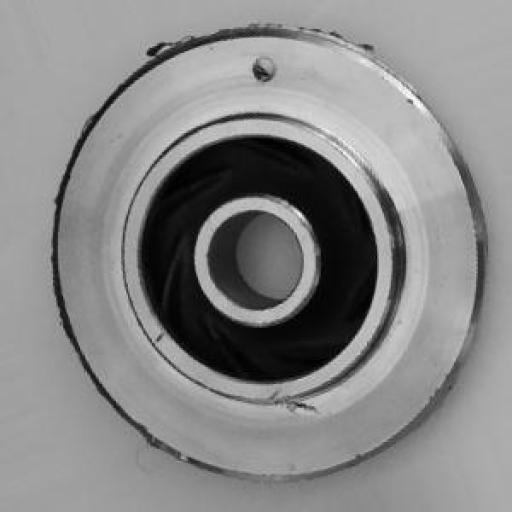defect: (37, 20, 493, 445)
